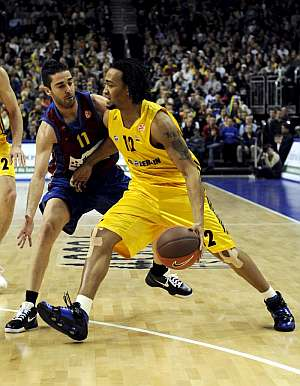basketball: (156, 226, 203, 270)
